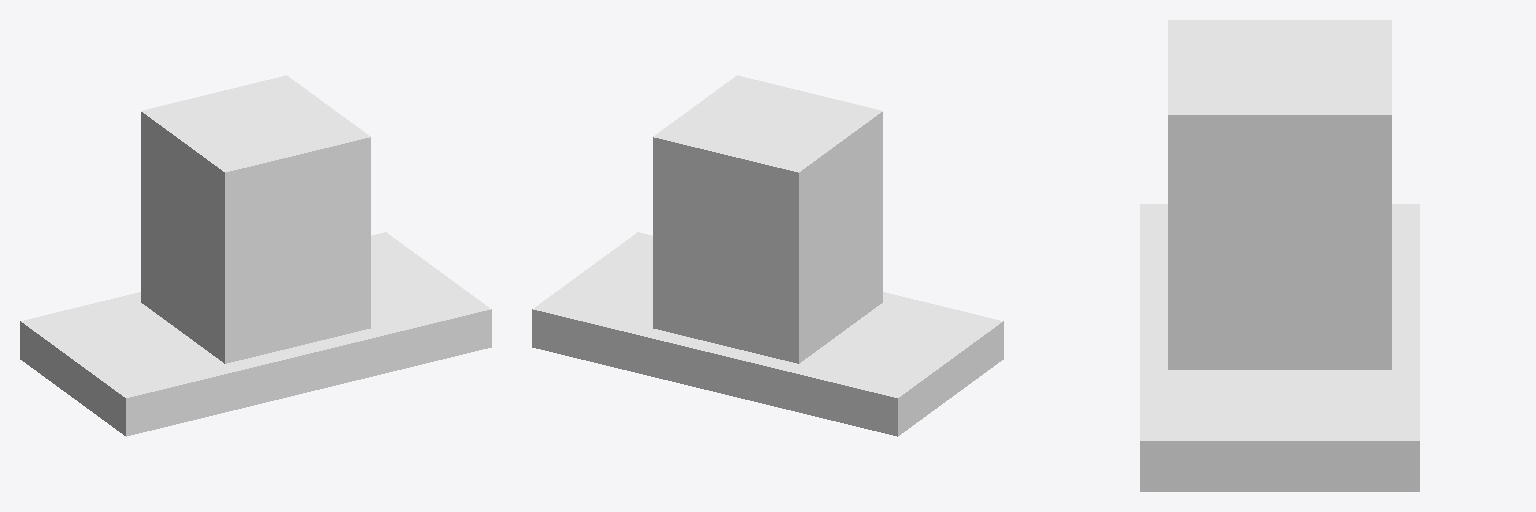
URDF robot description (wiper):
<?xml version="1.0"?>
<robot name="wiper">
    <material name="color">
        <color rgba="1.0 1.0 1.0 1.0"/>
    </material>

    <link name="handle">
        <visual>
            <origin xyz="0 0 -0.01" rpy="0 0 0"/>
            <geometry>
                <box size="0.04 0.04 0.06"/>
            </geometry>
            <material name="color"/>
        </visual>
        <collision>
            <origin xyz="0 0 -0.01" rpy="0 0 0"/>
            <geometry>
                <box size="0.04 0.04 0.06"/>
            </geometry>
        </collision>
        <contact>
            <rolling_friction value="0.001"/>
            <spinning_friction value="0.001"/>
        </contact>
        <inertial>
            <origin rpy="0 0 0" xyz="0 0 0"/>
            <mass value="0.1"/>
            <inertia ixx="1" ixy="0" ixz="0" iyy="1" iyz="0" izz="1"/>
        </inertial>
    </link>

    <link name="tool">
        <visual>
            <origin xyz="0 0 0" rpy="0 0 0"/>
            <geometry>
                <box size="0.1 0.05 0.01"/>
            </geometry>
            <material name="color"/>
        </visual>
        <collision>
            <origin xyz="0 0 0" rpy="0 0 0"/>
            <geometry>
                <box size="0.1 0.05 0.01"/>
            </geometry>
        </collision>
        <contact>
            <rolling_friction value="0.001"/>
            <spinning_friction value="0.001"/>
        </contact>
        <inertial>
            <origin rpy="0 0 0" xyz="0 0 0"/>
            <mass value="0.1"/>
            <inertia ixx="1" ixy="0" ixz="0" iyy="1" iyz="0" izz="1"/>
        </inertial>
    </link>

    <link name="cloth">
        <visual>
            <origin xyz="0 0 0.01" rpy="0 0 0"/>
            <geometry>
                <box size="0.05 0.025 0.005"/>
            </geometry>
            <material name="color"/>
        </visual>
        <collision>
            <origin xyz="0 0 0" rpy="0 0 0"/>
            <geometry>
                <box size="0.05 0.025 0.005"/>
            </geometry>
        </collision>
        <contact>
            <rolling_friction value="0.001"/>
            <spinning_friction value="0.001"/>
        </contact>
        <inertial>
            <origin rpy="0 0 0" xyz="0 0 0"/>
            <mass value="0.1"/>
            <inertia ixx="1" ixy="0" ixz="0" iyy="1" iyz="0" izz="1"/>
        </inertial>
    </link>

    <joint name="j_weld0" type="fixed">
        <parent link="handle"/>
        <child link="tool"/>
        <origin xyz="0 0 -0.035"/>
    </joint>
    <joint name="j_weld1" type="fixed">
        <parent link="tool"/>
        <child link="cloth"/>
        <origin xyz="0 0 -0.0075"/>
    </joint>

</robot>

--- Facts derived from the render (not from the file) ---
The picture shows the robot from 3 angles, left to right: view 1: azimuth 30°, elevation 25°; view 2: azimuth 150°, elevation 25°; view 3: azimuth 270°, elevation 25°; orthographic projection.
Robot: wiper — 3 links, 2 joints (2 fixed); root link handle; default pose: all joints at 0.
Links seen in each view (by area): view 1: handle, tool; view 2: handle, tool; view 3: handle, tool.
Link boxes in pixels (x1,y1,x2,y2): handle: (141, 75, 370, 363); tool: (20, 232, 491, 436); handle: (653, 75, 882, 363); tool: (532, 232, 1003, 436); handle: (1168, 20, 1391, 369); tool: (1140, 204, 1419, 491).
Size in the robot's own frame: 0.1 by 0.05 by 0.06 metres.
Geometry: primitives only (box / cylinder / sphere), no mesh files.